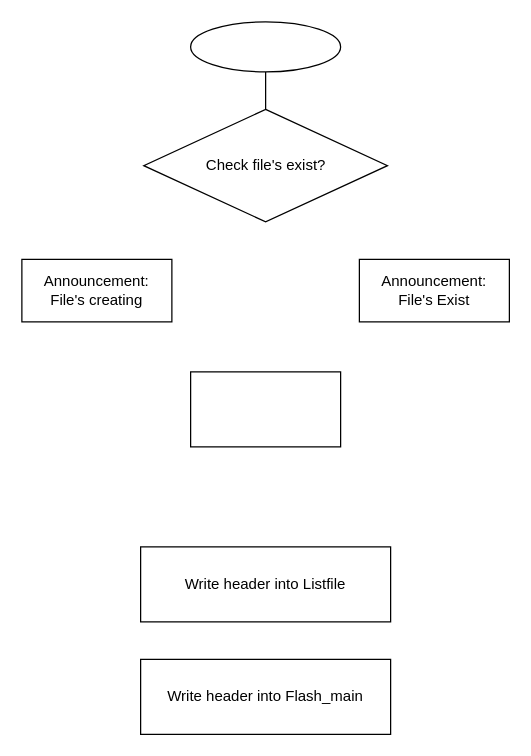
This 531x756 diagram has some shape labels left out. The shapes that lost their labels are listed below. From the top down, each one's centre as x and y in pixels, then its label:
At [265,46]: "START: Create".
At [265,409]: "Find location empty in Flash_SP".
